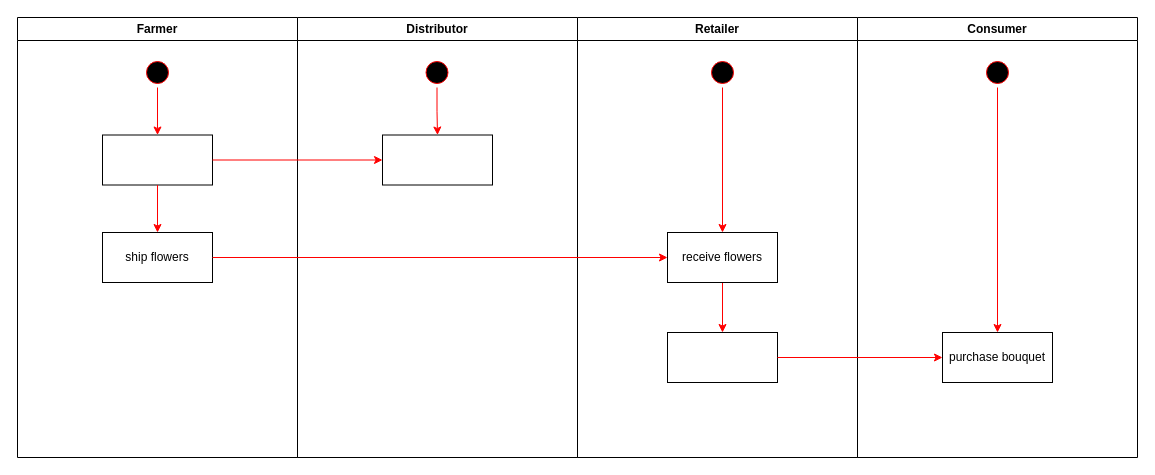
The diagram is 1155 pixels wide and 475 high, and some of its shapes have lost their labels. Here are the shapes that lost their labels. From the top down, the centre of each, then its label:
At [157,159]: "breed flowers".
At [437,159]: "buy flowers".
At [722,357]: "make bouquet".
